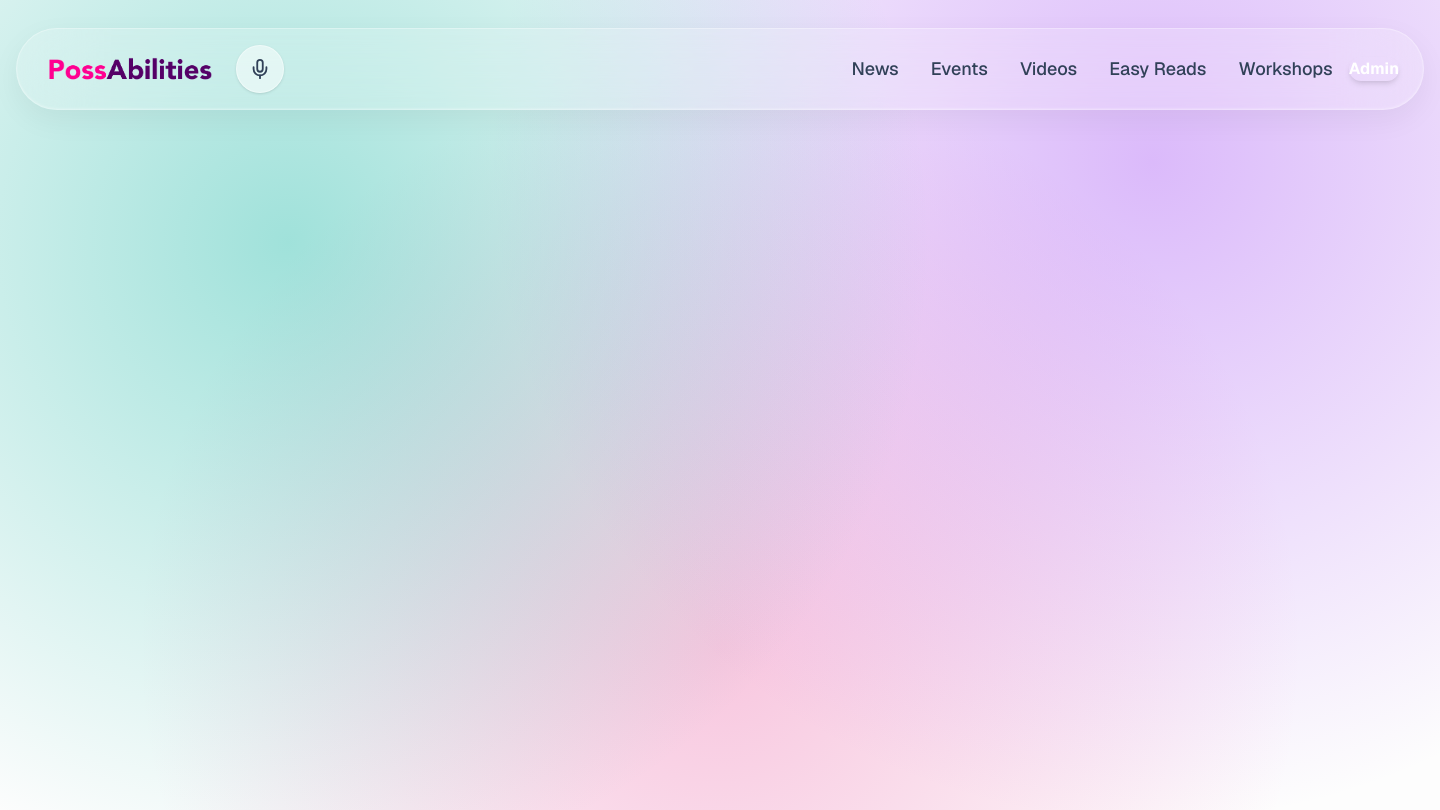
it: Navbar Component › Voice Search Functionality › shows error if browser does not support SpeechRecognition
Click the button named "Start voice search".
click(260, 69)  # box [236, 45, 284, 93]
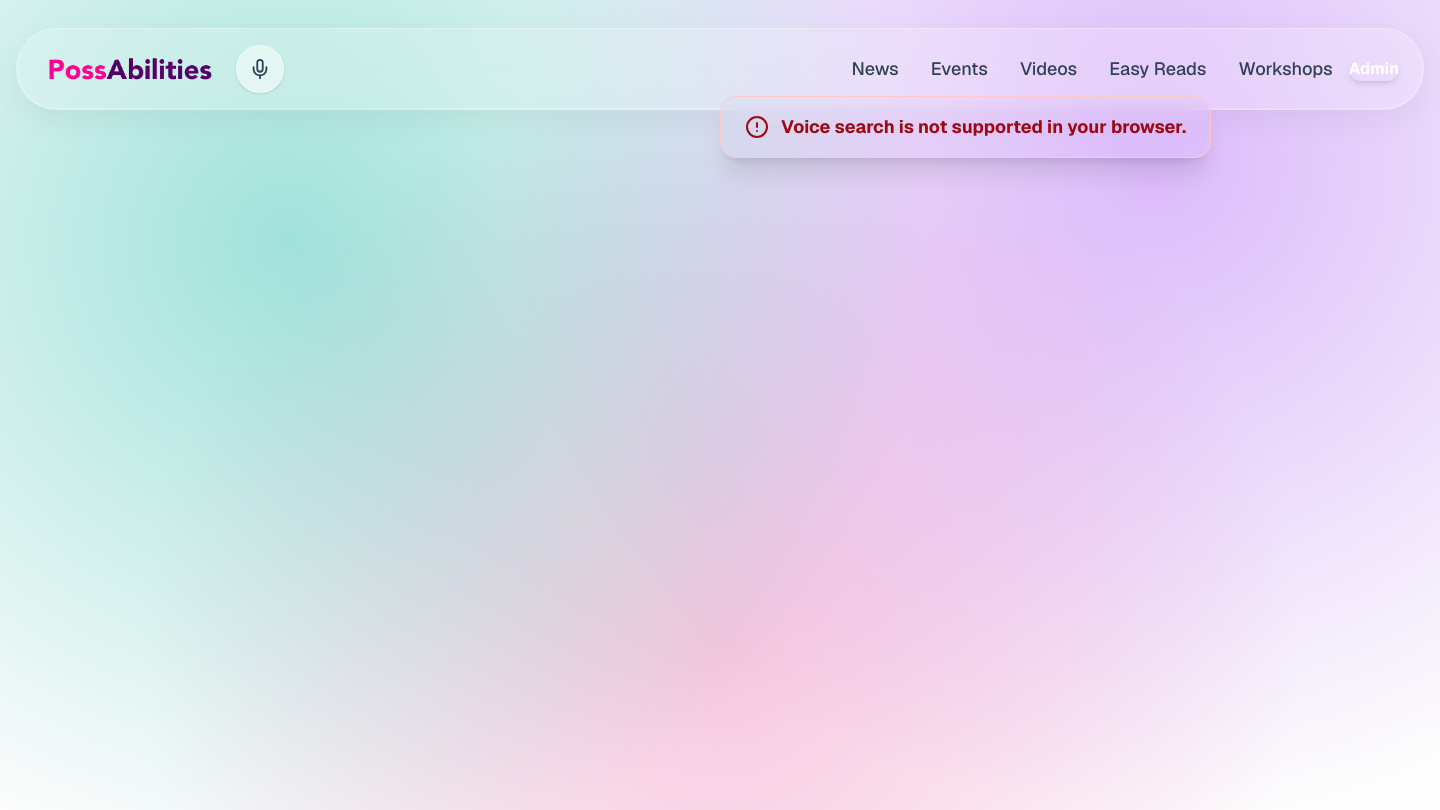
expect the text "Voice search is not supported in your browser." is shown: met, box [781, 113, 1186, 141]
